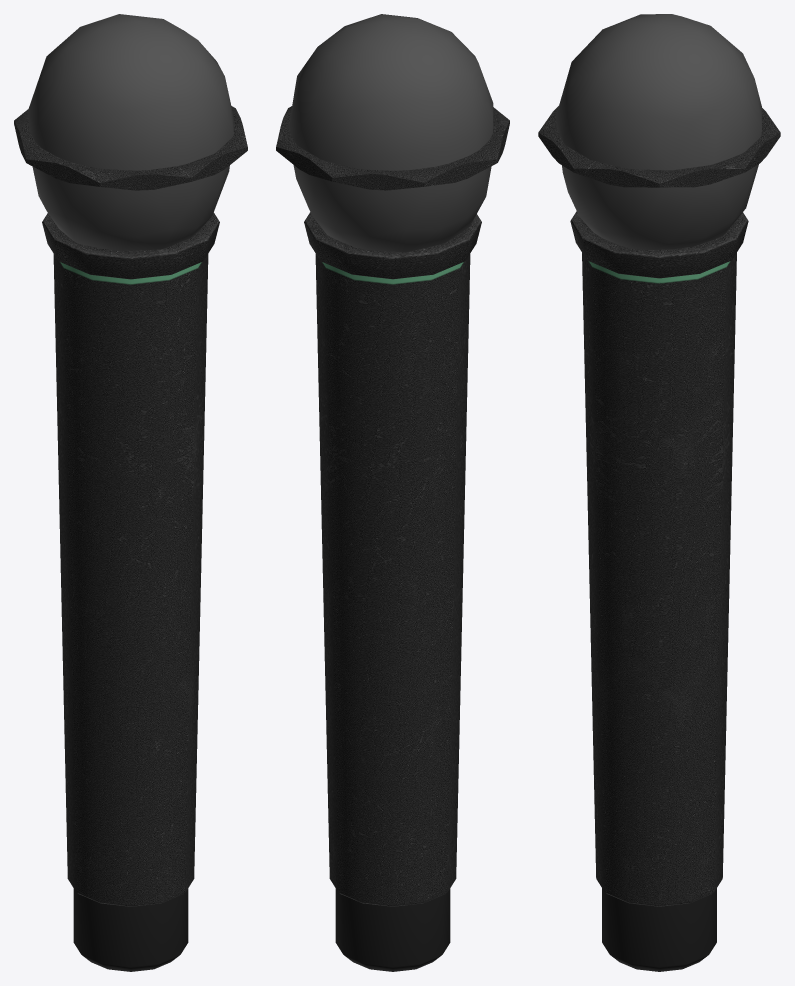
Rendered from SM_KaraokeMicrophone_01.fbx.
The picture shows the model from 3 angles, left to right: view 1: azimuth 30°, elevation 25°; view 2: azimuth 150°, elevation 25°; view 3: azimuth 270°, elevation 25°; orthographic projection.
Parts seen in each view (by area): view 1: SM_KaraokeMicrophone_01_LOD0; view 2: SM_KaraokeMicrophone_01_LOD0; view 3: SM_KaraokeMicrophone_01_LOD0.
Boxes of the visible parts, x1=… form: SM_KaraokeMicrophone_01_LOD0: x1=14, y1=14, x2=247, y2=971; SM_KaraokeMicrophone_01_LOD0: x1=276, y1=14, x2=509, y2=971; SM_KaraokeMicrophone_01_LOD0: x1=538, y1=14, x2=780, y2=971.
Bounding box in the file's own units: 5.93 × 5.93 × 25.13.
1 material, 1 textured.
